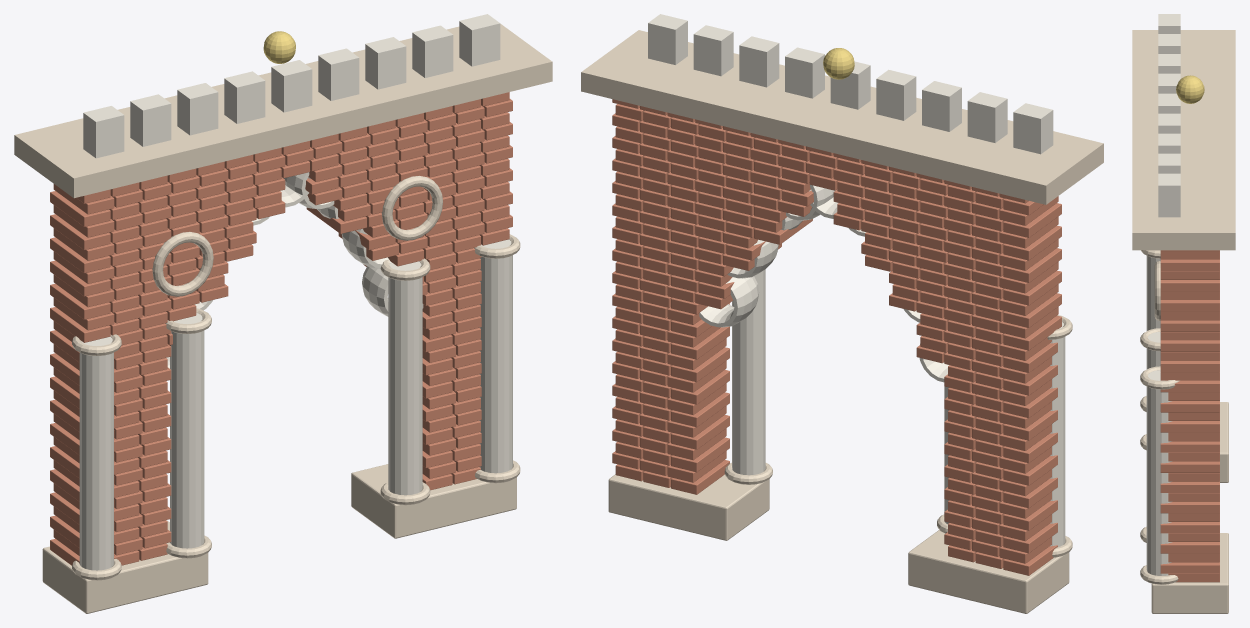
The model's file is lucknow_arch.glb.
The picture shows the model from 3 angles, left to right: view 1: azimuth 30°, elevation 25°; view 2: azimuth 150°, elevation 25°; view 3: azimuth 270°, elevation 25°; orthographic projection. The views are drawn at different scales.
Visible parts, largest first — view 1: staggered_lakhori_brickwork, carved_spandrel_and_chhajja, fluted_guldasta_pillars, arch_plinth_base, cusped_arch_voussoirs; view 2: staggered_lakhori_brickwork, carved_spandrel_and_chhajja, arch_plinth_base, fluted_guldasta_pillars, cusped_arch_voussoirs; view 3: carved_spandrel_and_chhajja, staggered_lakhori_brickwork, fluted_guldasta_pillars, arch_plinth_base.
Boxes of the visible parts, <box> form: staggered_lakhori_brickwork: <box>50,92,512,565</box>; carved_spandrel_and_chhajja: <box>14,14,552,296</box>; fluted_guldasta_pillars: <box>72,234,520,580</box>; arch_plinth_base: <box>42,464,516,613</box>; cusped_arch_voussoirs: <box>166,172,423,368</box>; staggered_lakhori_brickwork: <box>612,99,1061,575</box>; carved_spandrel_and_chhajja: <box>581,14,1103,204</box>; arch_plinth_base: <box>608,474,1069,613</box>; fluted_guldasta_pillars: <box>724,269,1072,557</box>; cusped_arch_voussoirs: <box>699,184,949,382</box>; carved_spandrel_and_chhajja: <box>1132,14,1235,320</box>; staggered_lakhori_brickwork: <box>1160,250,1219,582</box>; fluted_guldasta_pillars: <box>1140,250,1179,584</box>; arch_plinth_base: <box>1151,402,1228,613</box>.
Bounding box in the file's own units: 6.05 × 6.2 × 1.3.
